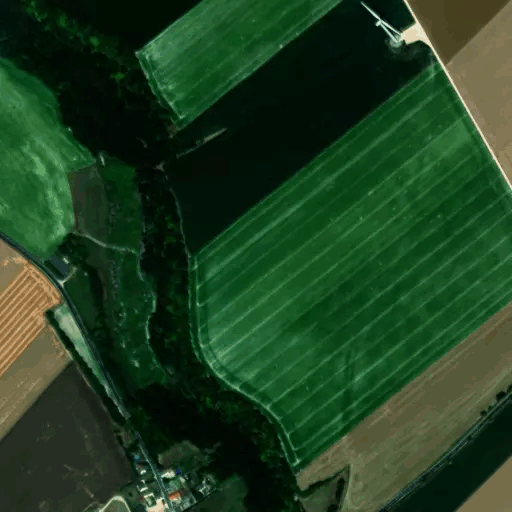wt: (360, 1, 420, 66)
